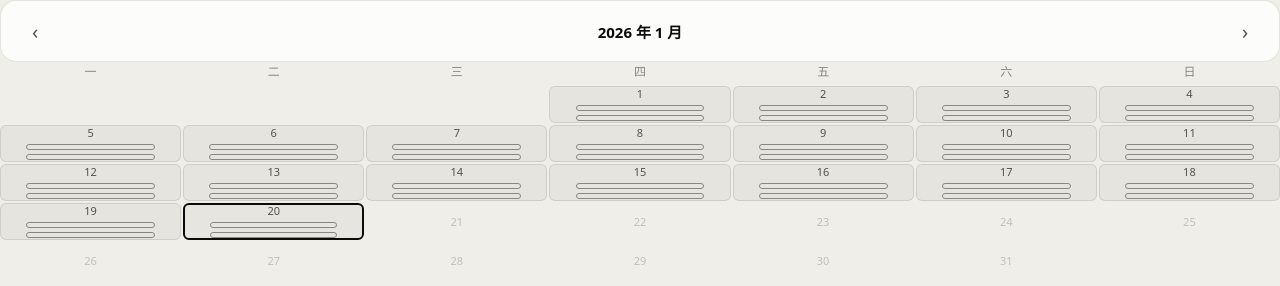
日历视图 › 跨年翻月：1 月往前是上一年 12 月
Click the button named "上个月" at [35, 31], box [13, 9, 57, 53]
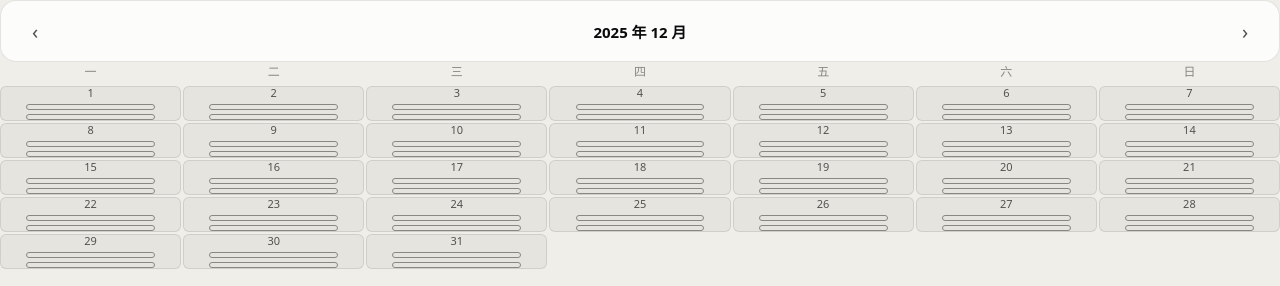
expect the text "2025 年 12 月" is shown: met, box [593, 20, 687, 42]
Click the button named "下个月" at [1245, 31], box [1223, 9, 1267, 53]
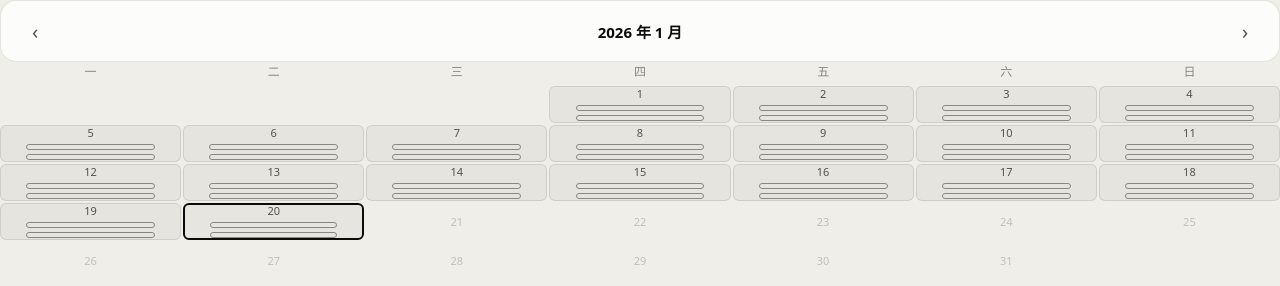
expect the text "2026 年 1 月" is shown: met, box [598, 20, 682, 42]
